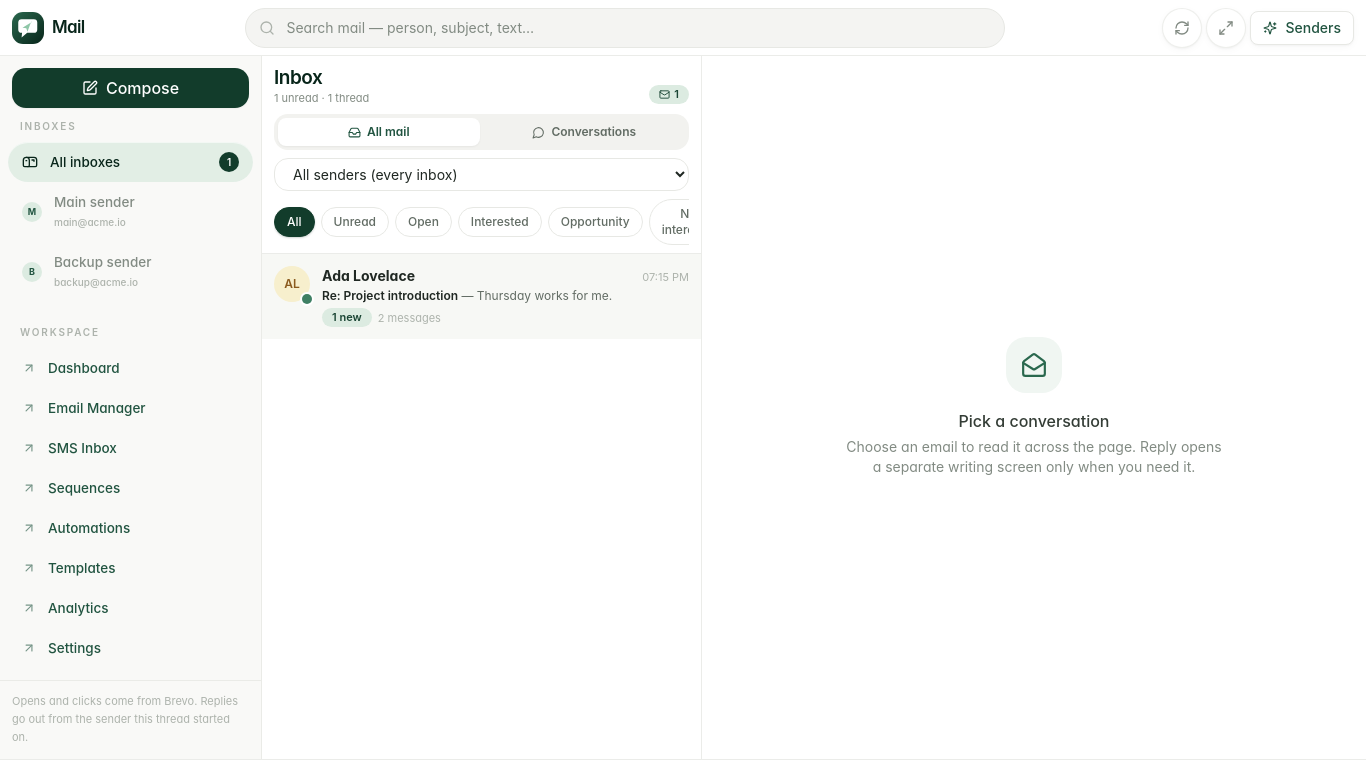
Scenario: EmailInboxPage — reading first, reply on its own page › does not allow replies to an unsubscribed contact
Click the button "Ada Lovelace" at x=482, y=297, box [262,254,701,339]
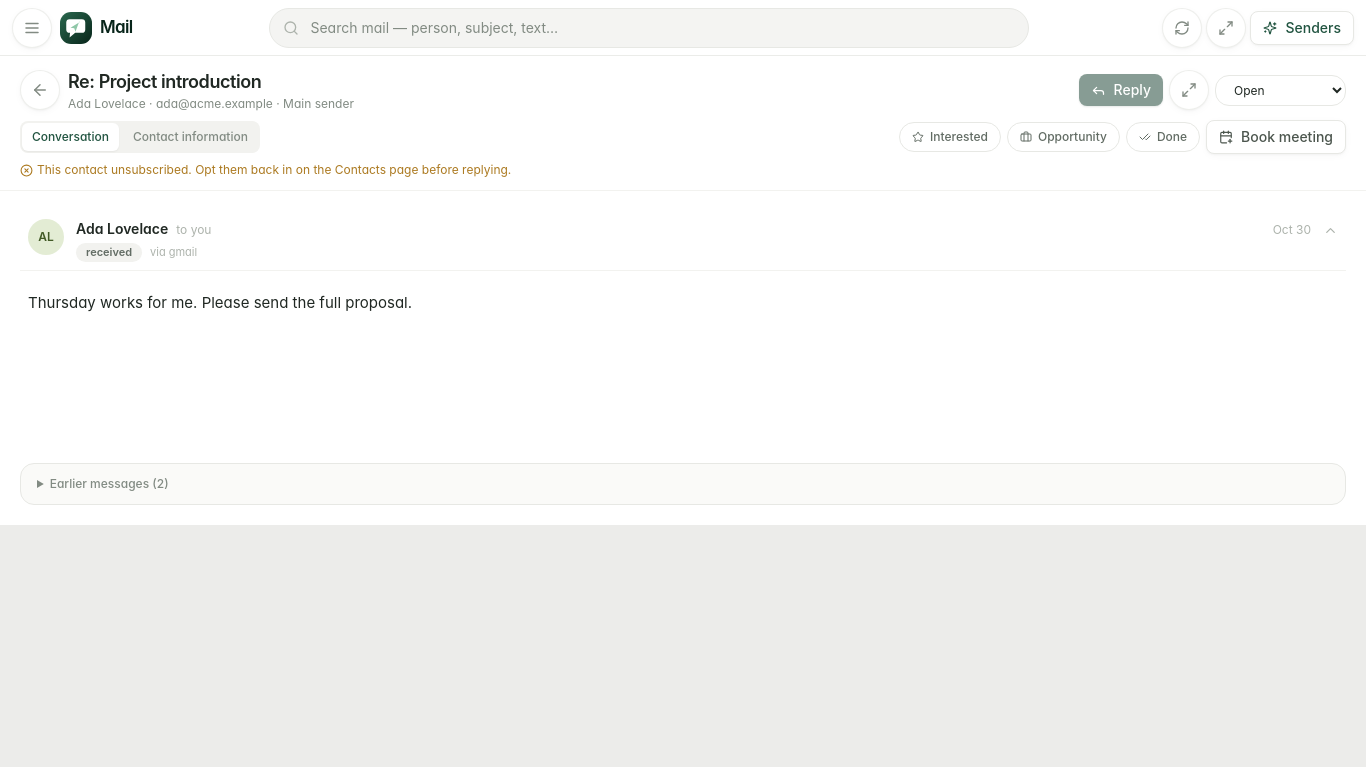
expect the button "Reply" is disabled: met, box [1079,74,1163,106]
expect the text "This contact unsubscribed" is shown: met, box [37,162,511,177]
